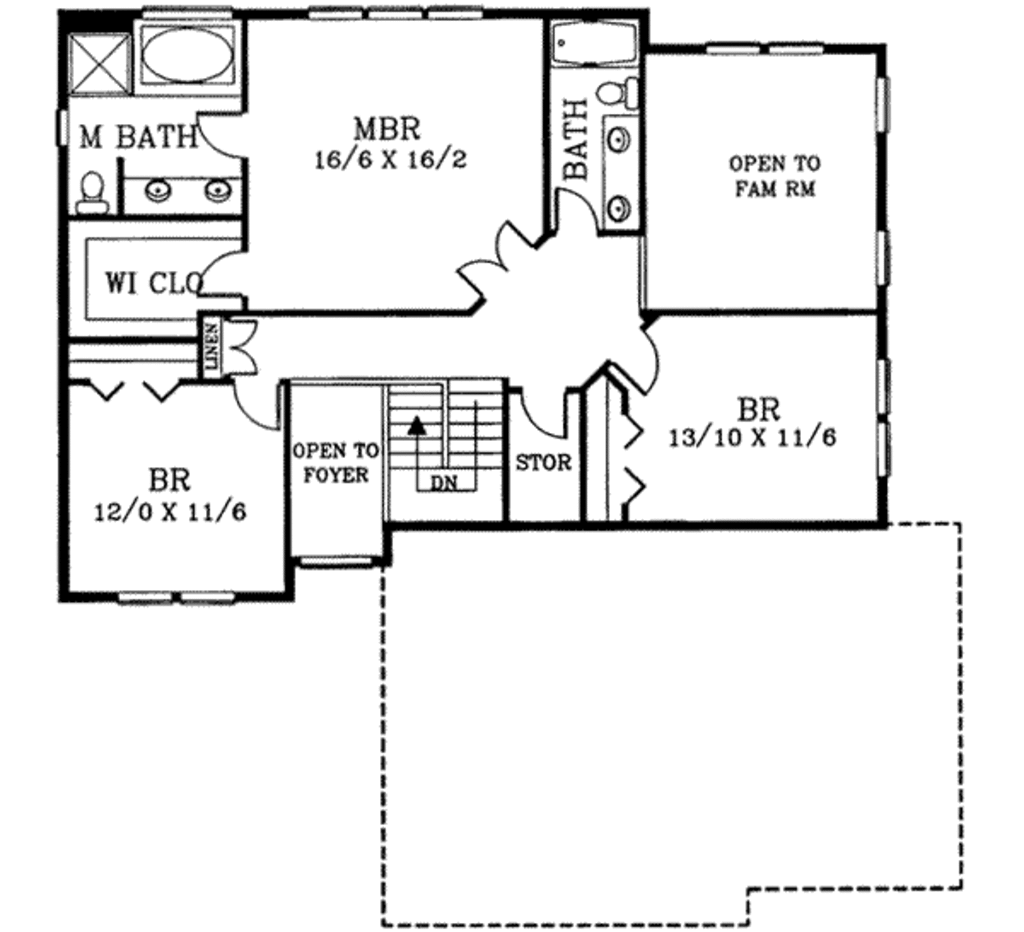door: (447, 213, 543, 302), (609, 317, 664, 402), (182, 238, 244, 302), (184, 99, 251, 158), (225, 376, 287, 433), (546, 179, 601, 240), (517, 382, 570, 444), (220, 317, 265, 384)
large_sink: (70, 164, 120, 219), (579, 72, 641, 112)
small_sink: (596, 116, 653, 230), (120, 176, 243, 213)
stairs: (378, 381, 509, 520)
tub: (133, 14, 241, 93), (547, 14, 646, 67)
window: (302, 543, 372, 569), (366, 1, 423, 29), (867, 74, 894, 131), (302, 2, 364, 24), (871, 419, 894, 476), (177, 585, 234, 606), (767, 33, 823, 54), (115, 585, 174, 603), (705, 38, 764, 54), (429, 2, 484, 19), (875, 226, 888, 282), (877, 358, 889, 416)
